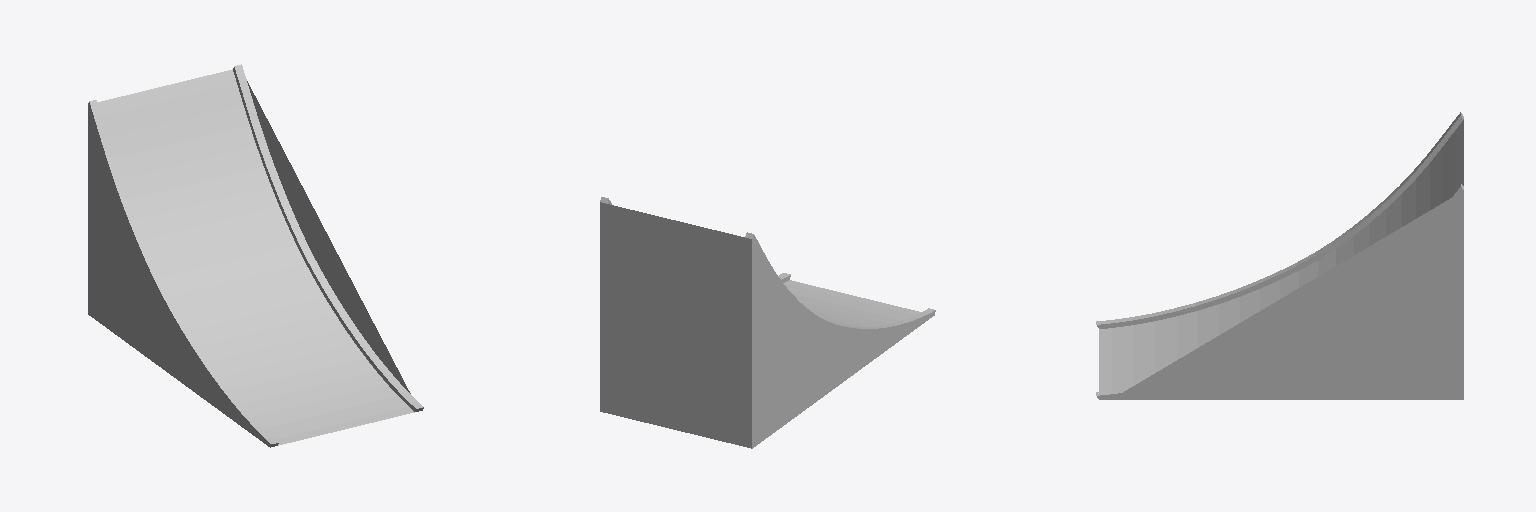
Rendered from Rampa_A1-2.obj.
The picture shows the model from 3 angles: view 1: azimuth 30°, elevation 25°; view 2: azimuth 150°, elevation 25°; view 3: azimuth 270°, elevation 25°; orthographic projection.
Parts seen in each view (by area): view 1: Rampa_A1-2_Cube.018; view 2: Rampa_A1-2_Cube.018; view 3: Rampa_A1-2_Cube.018.
Boxes of the visible parts, x1=… form: Rampa_A1-2_Cube.018: x1=88, y1=64, x2=423, y2=447; Rampa_A1-2_Cube.018: x1=600, y1=197, x2=935, y2=448; Rampa_A1-2_Cube.018: x1=1096, y1=112, x2=1463, y2=399.
Size of the model in its own units: 2 by 2.68 by 4.17.